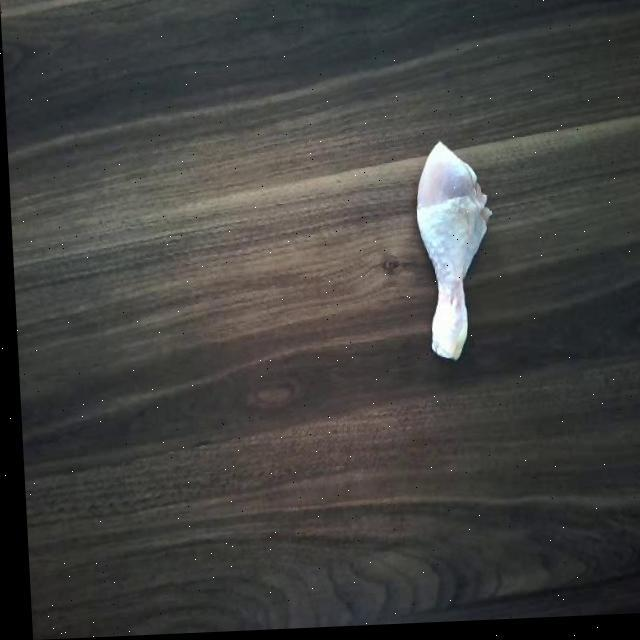leg: (405, 140, 492, 368)
